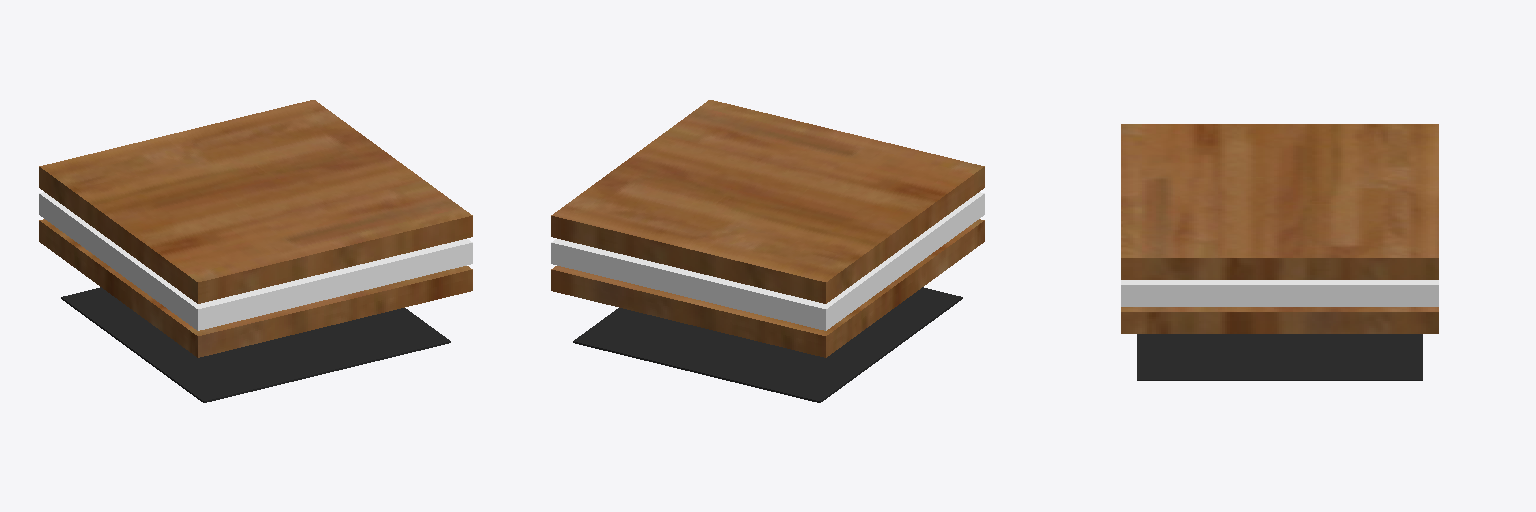
The picture shows the model from 3 angles: view 1: azimuth 30°, elevation 25°; view 2: azimuth 150°, elevation 25°; view 3: azimuth 270°, elevation 25°; orthographic projection.
Parts seen in each view (by area): view 1: mesh8_mesh8-geometry, mesh1_mesh1-geometry, mesh7_mesh7-geometry, mesh14_mesh14-geometry, mesh5_mesh5-geometry; view 2: mesh8_mesh8-geometry, mesh1_mesh1-geometry, mesh7_mesh7-geometry, mesh14_mesh14-geometry, mesh5_mesh5-geometry; view 3: mesh8_mesh8-geometry, mesh1_mesh1-geometry, mesh7_mesh7-geometry, mesh4_mesh4-geometry, mesh5_mesh5-geometry.
Part boxes in pixels (bbox=[...]): mesh8_mesh8-geometry: bbox=[39, 100, 472, 303]; mesh1_mesh1-geometry: bbox=[61, 287, 450, 402]; mesh7_mesh7-geometry: bbox=[39, 219, 472, 357]; mesh14_mesh14-geometry: bbox=[39, 194, 472, 330]; mesh5_mesh5-geometry: bbox=[39, 192, 472, 308]; mesh8_mesh8-geometry: bbox=[551, 100, 984, 303]; mesh1_mesh1-geometry: bbox=[573, 287, 962, 402]; mesh7_mesh7-geometry: bbox=[551, 219, 984, 357]; mesh14_mesh14-geometry: bbox=[551, 194, 984, 330]; mesh5_mesh5-geometry: bbox=[551, 192, 984, 308]; mesh8_mesh8-geometry: bbox=[1121, 124, 1438, 279]; mesh1_mesh1-geometry: bbox=[1137, 334, 1422, 380]; mesh7_mesh7-geometry: bbox=[1121, 307, 1438, 333]; mesh4_mesh4-geometry: bbox=[1121, 285, 1438, 306]; mesh5_mesh5-geometry: bbox=[1121, 280, 1438, 284].
Size of the model in its own units: 0.6736 by 0.3044 by 0.6735.
Materials: 5 (1 with a texture image).